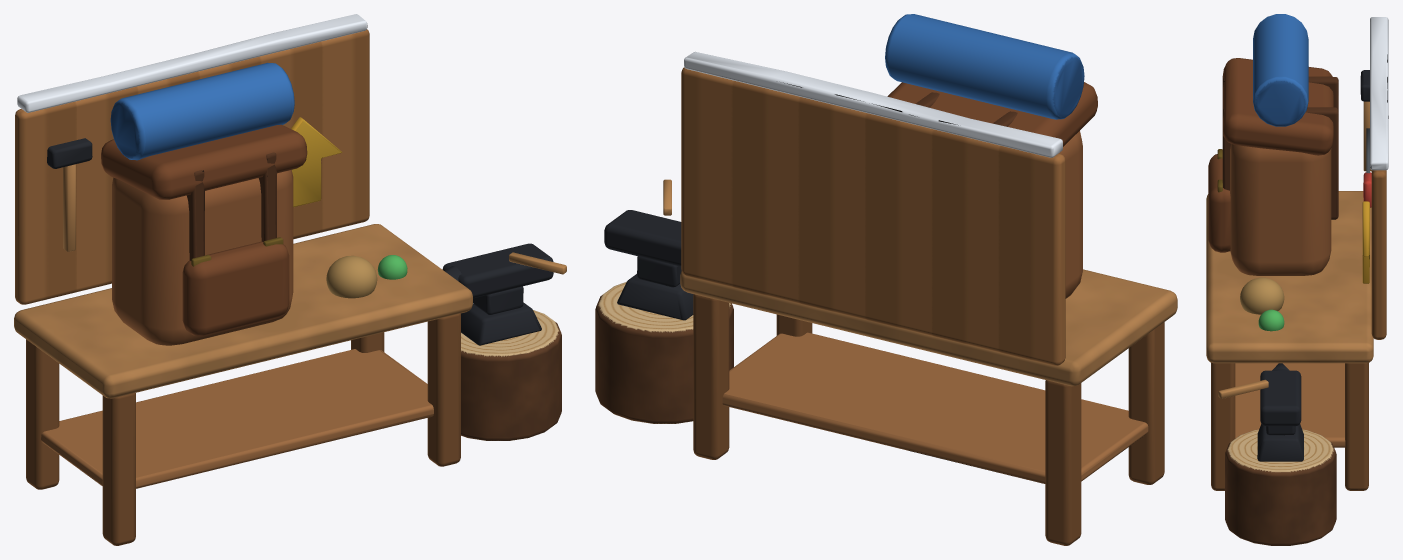
Rendered from upgrade_bench.glb.
The picture shows the model from 3 angles, left to right: view 1: azimuth 30°, elevation 25°; view 2: azimuth 150°, elevation 25°; view 3: azimuth 270°, elevation 25°; orthographic projection. The views are drawn at different scales.
Parts seen in each view (by area): view 1: abase; view 2: abase; view 3: abase.
Boxes of the visible parts, left/top/right/bottom form: abase: left=14, top=14, right=566, bottom=545; abase: left=595, top=14, right=1177, bottom=545; abase: left=1206, top=14, right=1388, bottom=545.
Bounding box in the file's own units: 2.65 × 2.1 × 0.98.
1 material, 1 textured.
